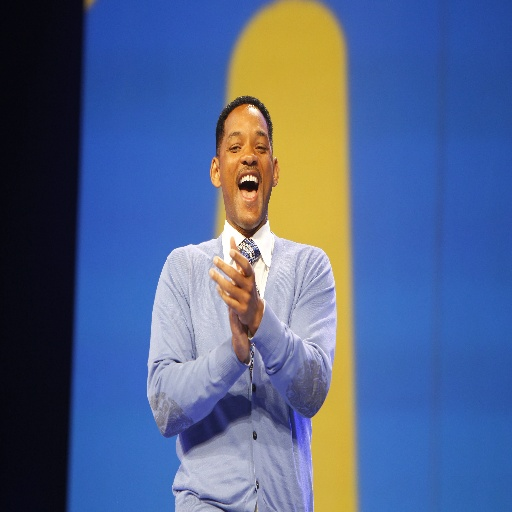hand: (227, 266, 252, 362)
